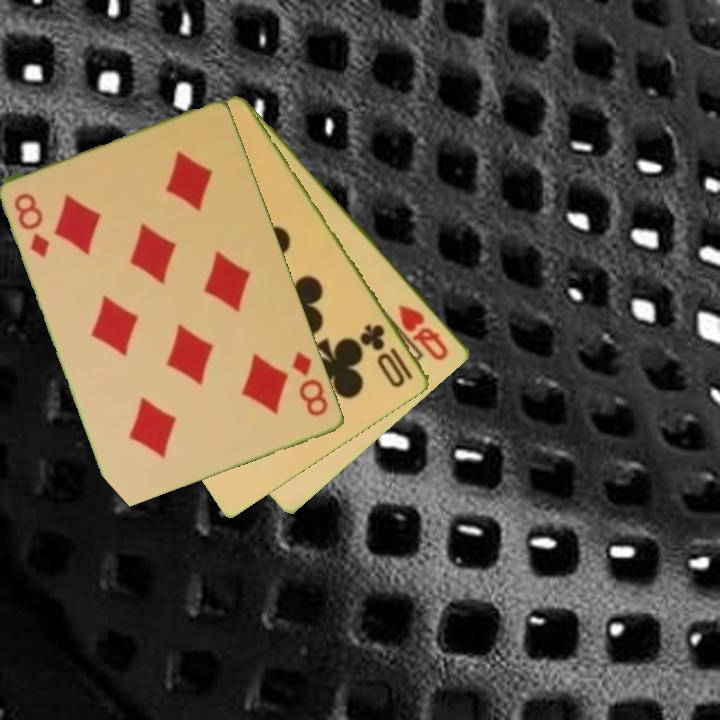10c: (357, 320, 417, 391)
8d: (289, 348, 332, 420), (11, 189, 53, 261)
Qh: (395, 301, 452, 364)
